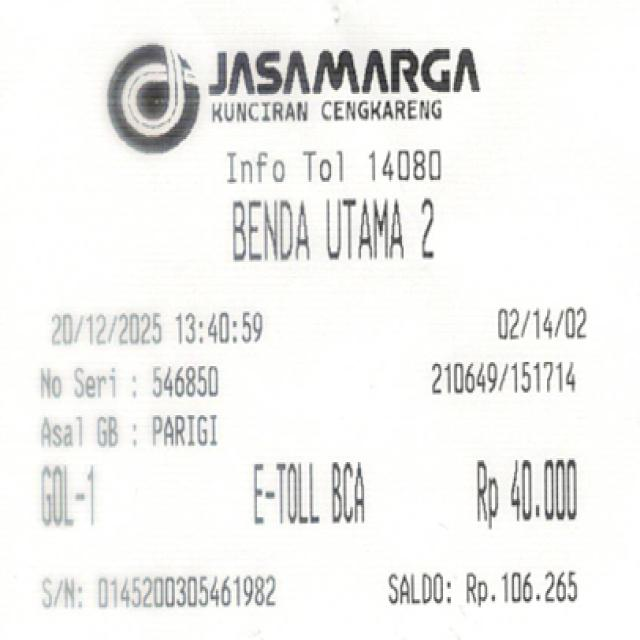date: (48, 307, 266, 349)
store: (211, 38, 481, 128)
total: (466, 445, 586, 535)
